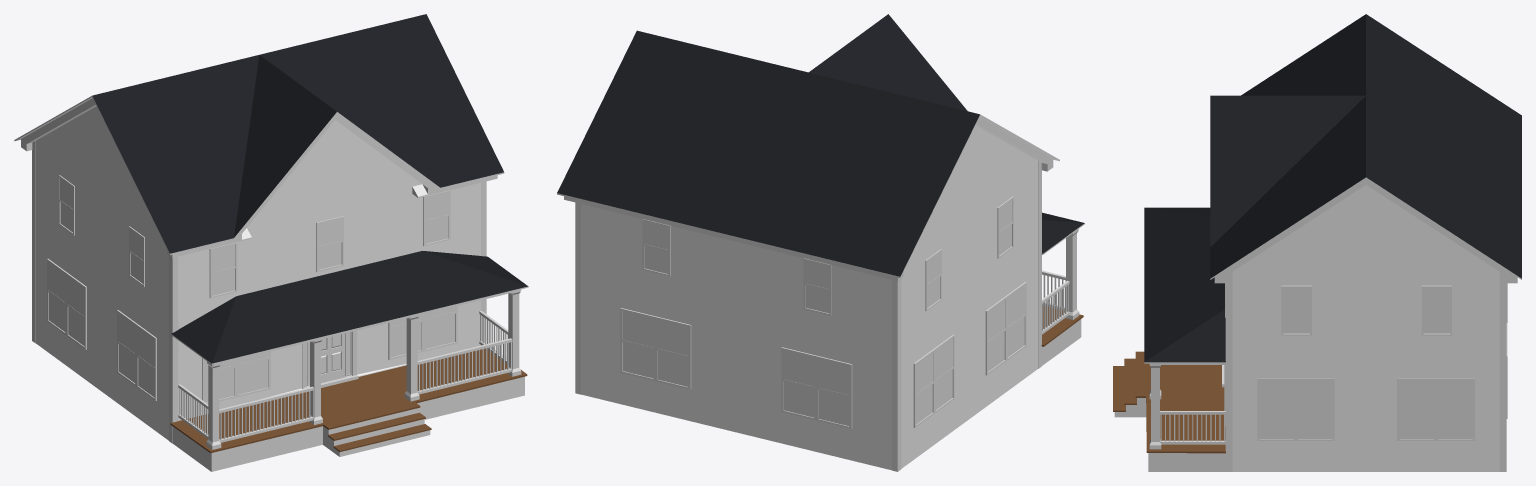
Rendered from House_1.fbx.
3 views of the same model, side by side, from view 1: azimuth 30°, elevation 25°; view 2: azimuth 150°, elevation 25°; view 3: azimuth 270°, elevation 25° (orthographic). The views are drawn at different scales.
Parts seen in each view (by area): view 1: House_1; view 2: House_1; view 3: House_1.
Part boxes in pixels (box(x1,y1,x2,y2)): House_1: box(14, 14, 528, 471); House_1: box(557, 14, 1084, 471); House_1: box(1113, 14, 1521, 471).
Size of the model in its own units: 1042 by 891 by 1102.
